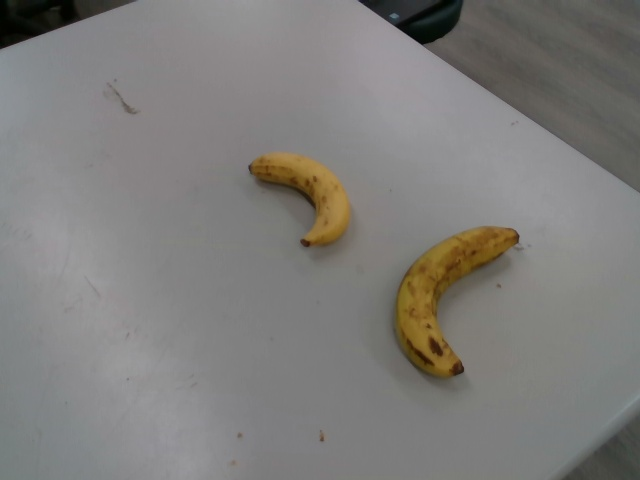banana: (387, 224, 520, 382), (246, 150, 352, 248)
